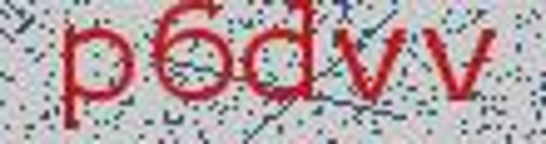6: (149, 1, 239, 116)
d: (239, 1, 321, 114)
p: (41, 15, 138, 139)
v: (417, 15, 510, 111), (328, 19, 411, 117)
